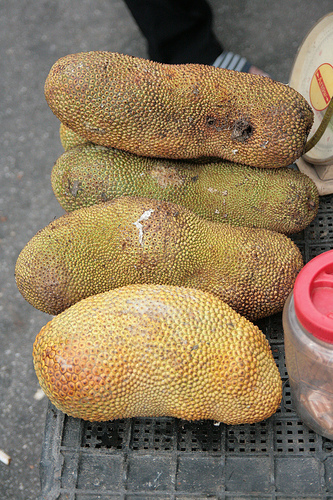jackfruit: (10, 196, 302, 315), (32, 284, 281, 421), (37, 51, 312, 168), (48, 142, 319, 236)
